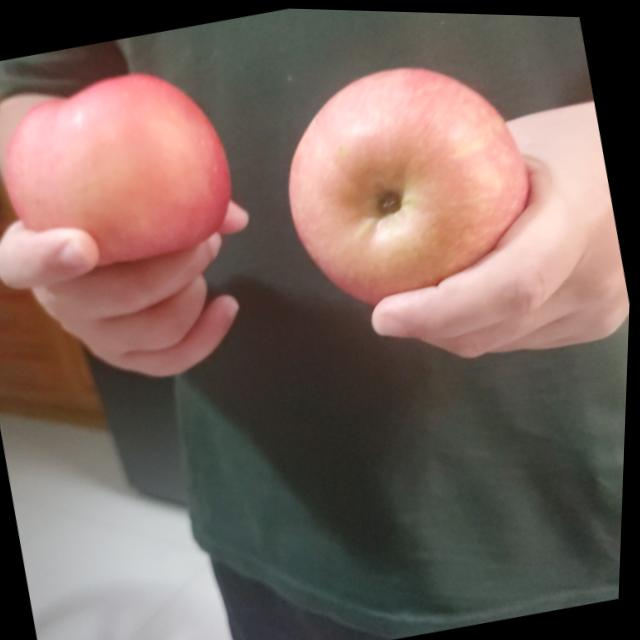apple: (266, 36, 557, 315), (0, 55, 247, 288)
